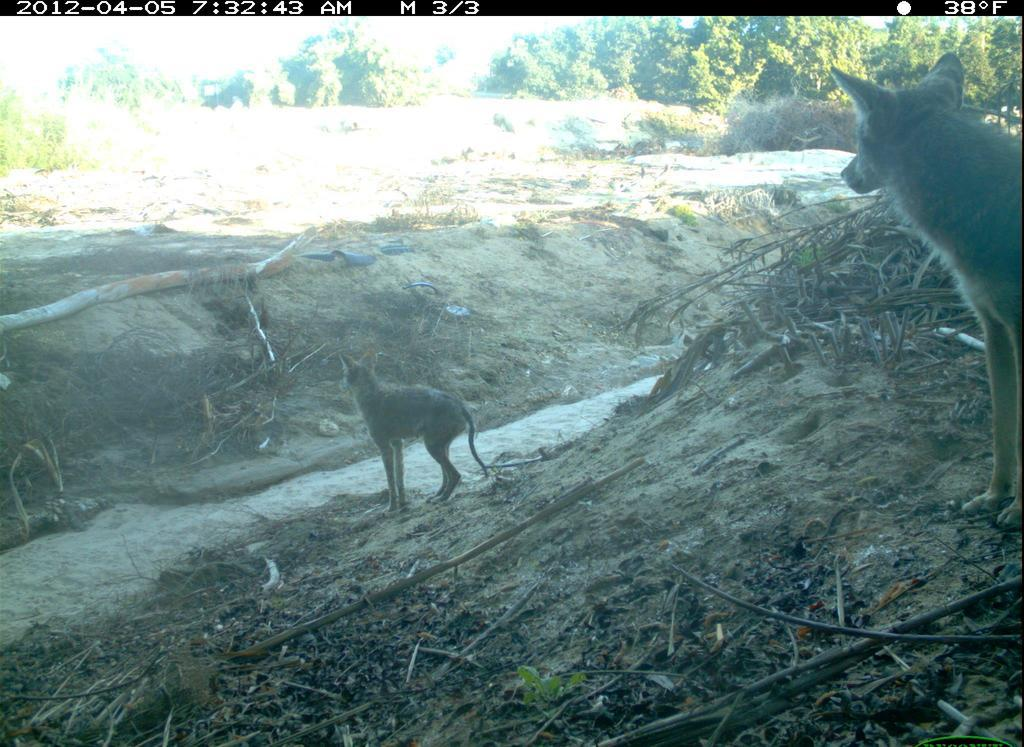coyote: (825, 53, 1022, 542), (340, 346, 495, 515)
